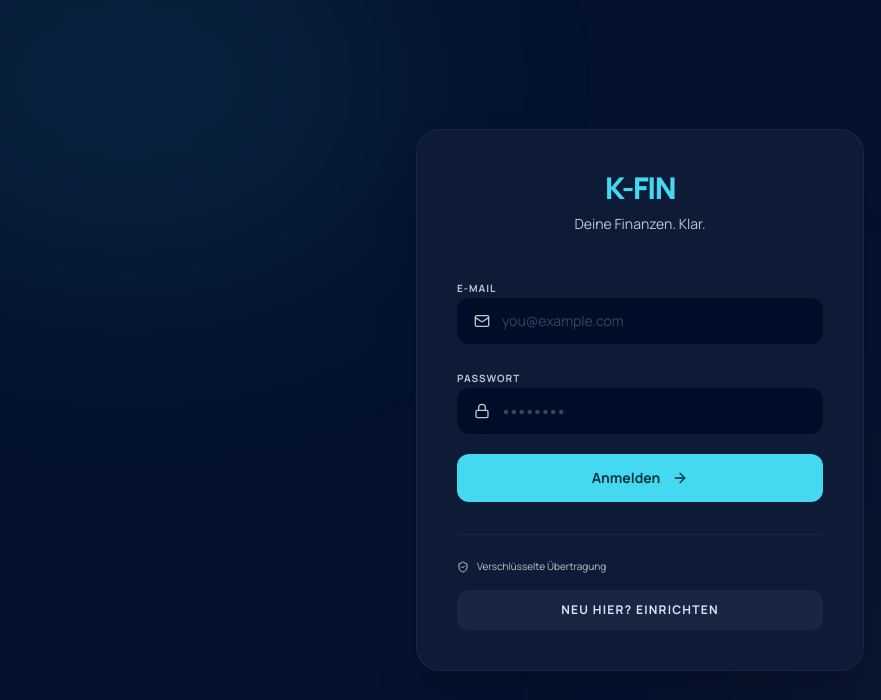
Login › rejects passwords shorter than 12 characters
Type "max@example.com" into the field with placeholder "you@example.com". click: (654,321)
box: [502, 299, 806, 343]
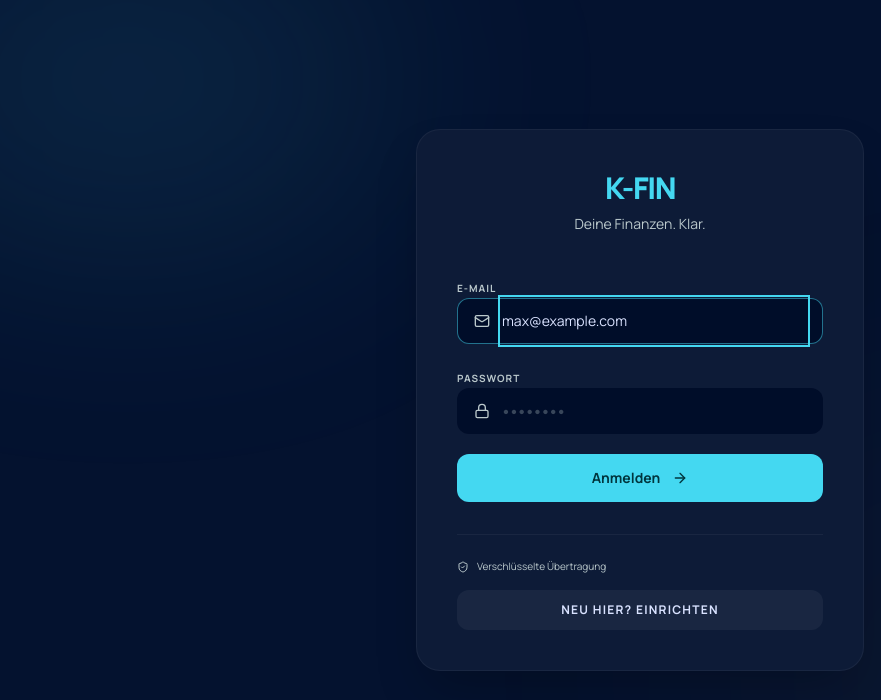
Type "short" into the password field with placeholder "••••••••". click: (654,411)
box: [502, 389, 806, 433]
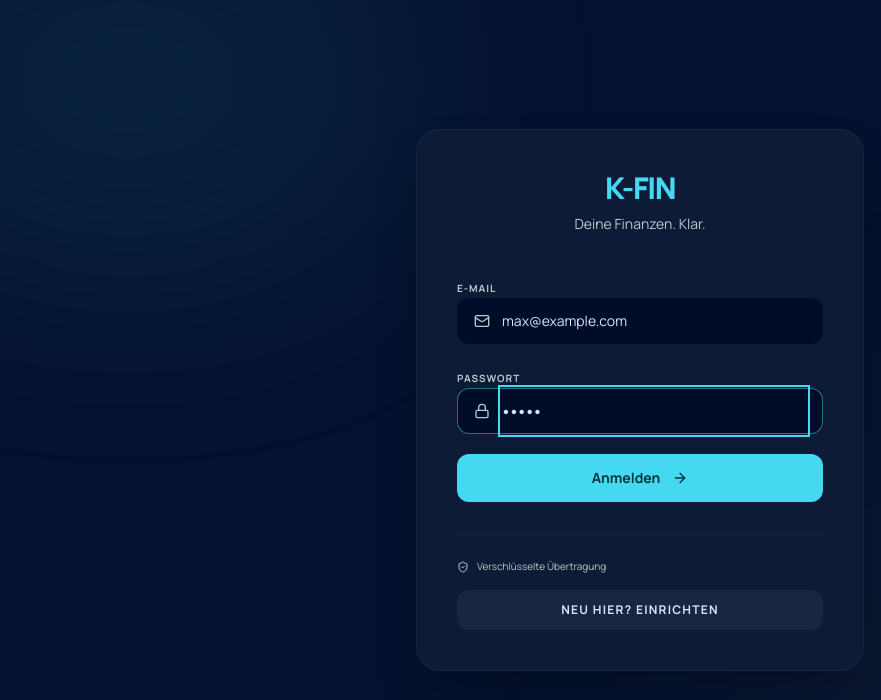
Click the button "Anmelden". click: (640,478)
box: [457, 454, 823, 502]
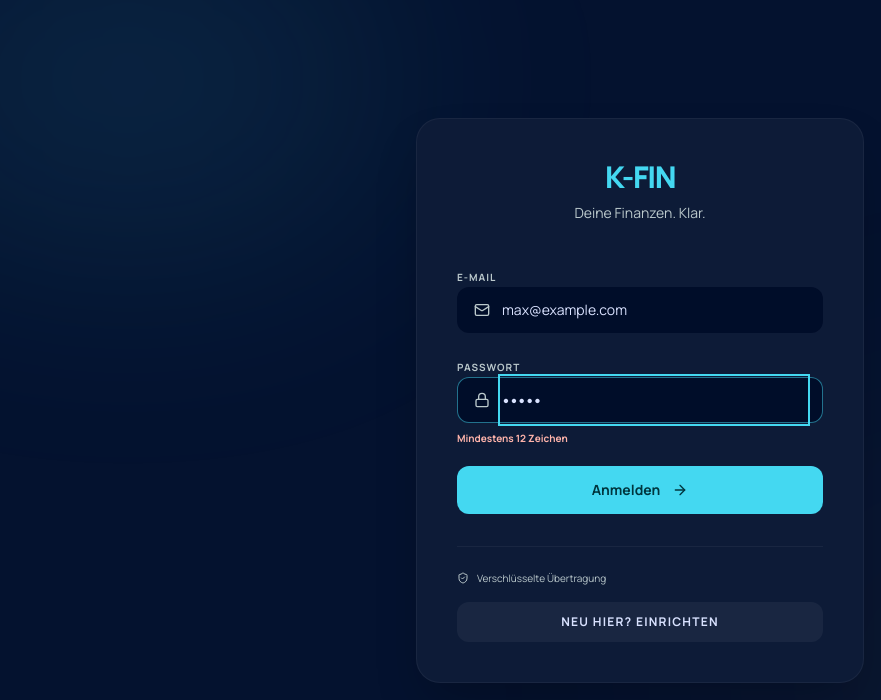
Now the text "Mindestens 12 Zeichen" is shown, box [457, 430, 568, 444]
